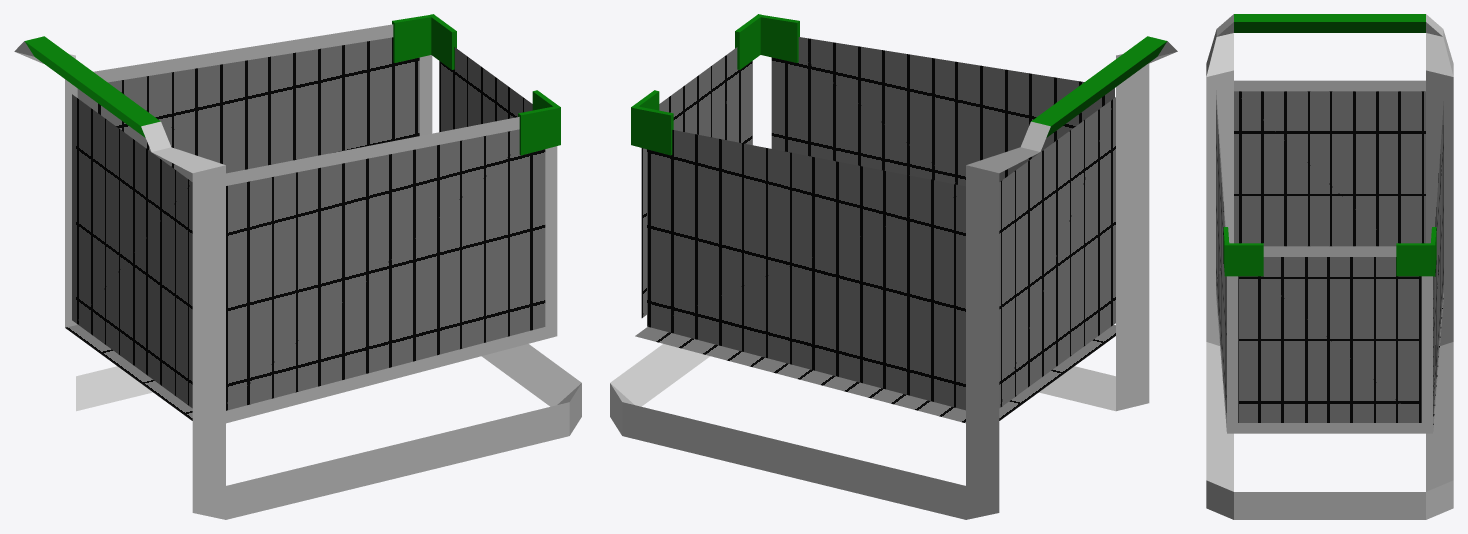
File: cart.gltf
3 renders of one model, left to right at view 1: azimuth 30°, elevation 25°; view 2: azimuth 150°, elevation 25°; view 3: azimuth 270°, elevation 25°, orthographic. The views are drawn at different scales.
Parts seen in each view (by area): view 1: root; view 2: root; view 3: root.
Part boxes in pixels (left/top/right/bottom): root: left=14, top=14, right=581, bottom=519; root: left=610, top=14, right=1177, bottom=519; root: left=1206, top=14, right=1453, bottom=519.
Bounding box in the file's own units: 3.67 × 3.17 × 2.16.
4 materials, 2 textured.
